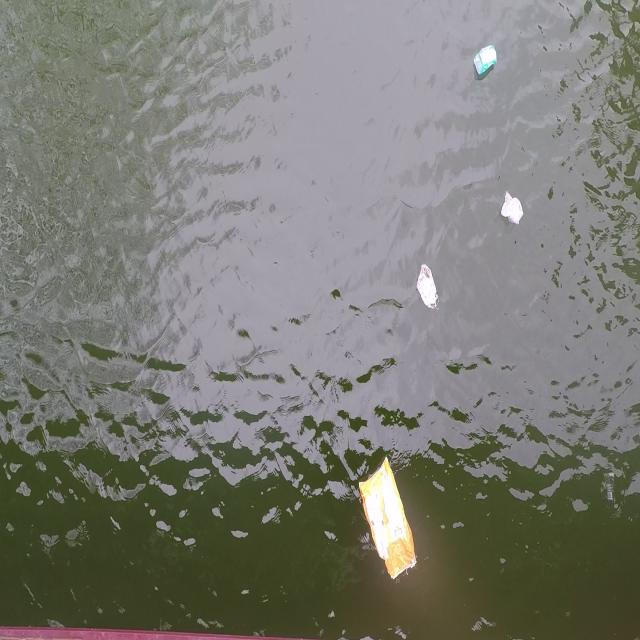Sac plastique: (352, 454, 422, 589), (414, 263, 444, 316), (497, 189, 528, 229)
